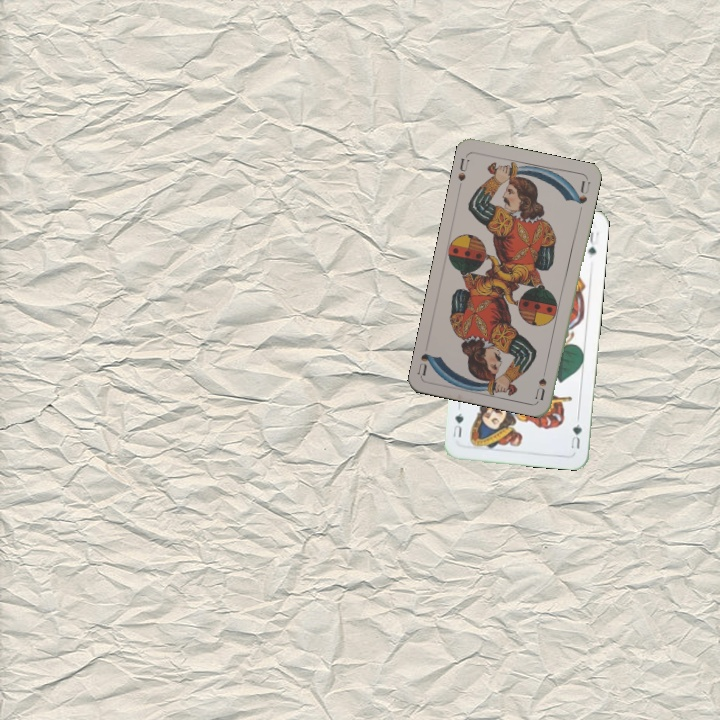GU: (567, 419, 584, 451)
SU: (454, 154, 472, 184), (531, 374, 549, 402)
